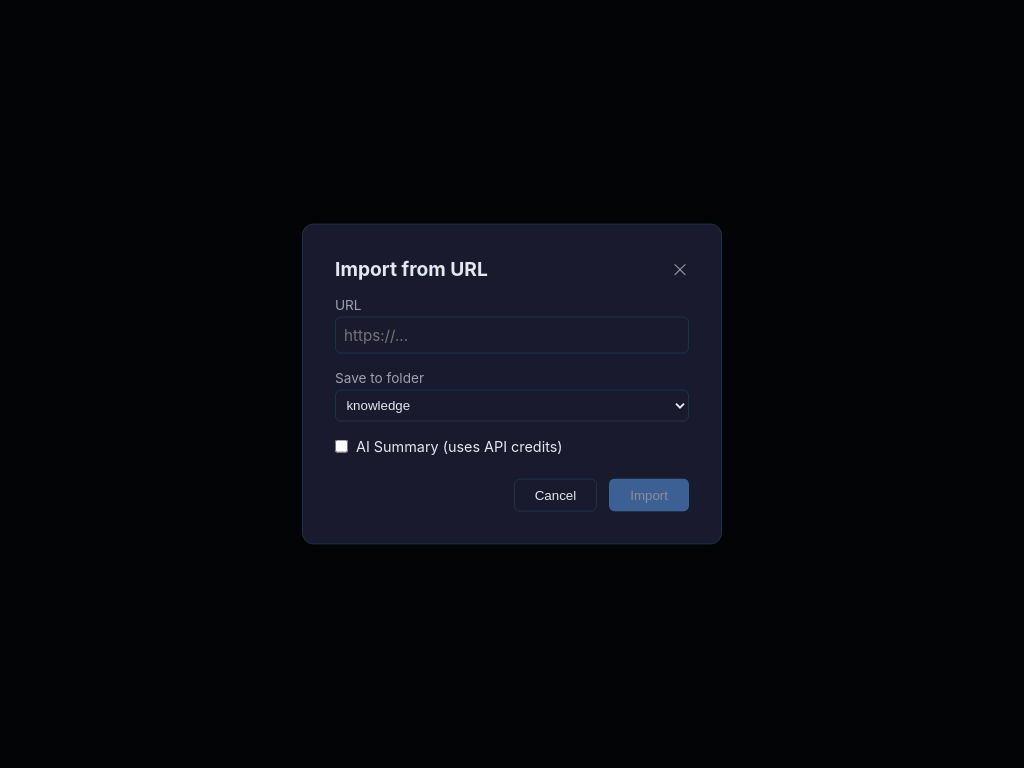
Test: components/LinkIngestDialog.vue › detects webpage URL type
Type "https://example.com/article" into the field with class "link-dialog__input" at (512, 335), box [335,317,689,354]
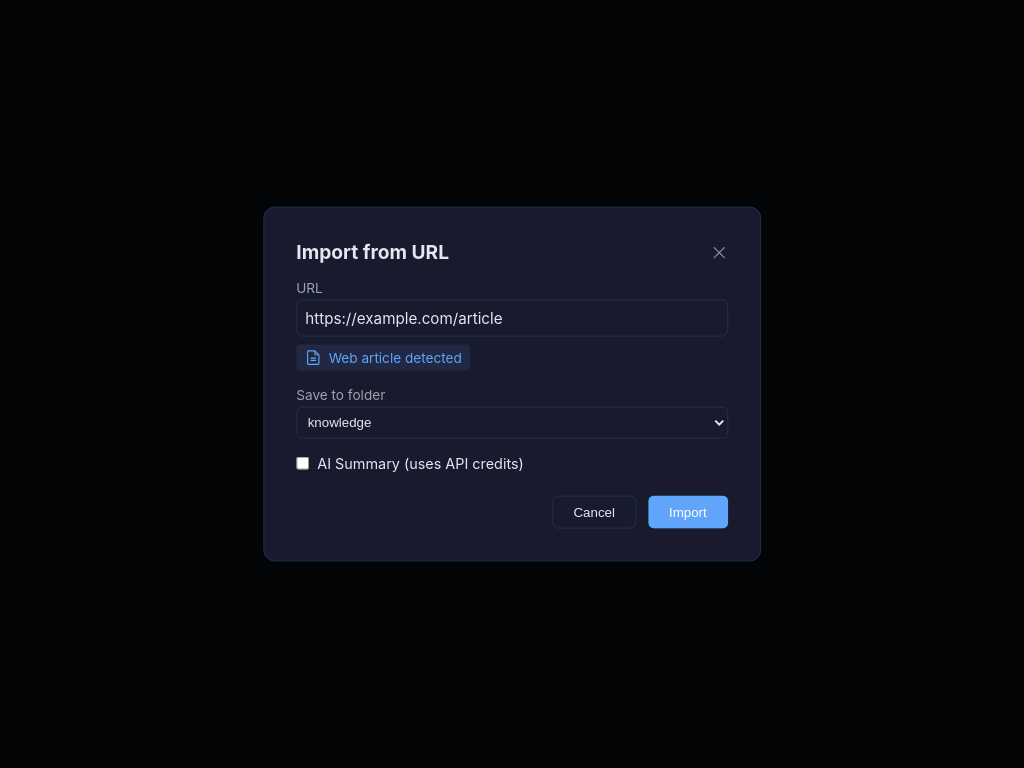
Now the element with class "link-dialog__badge--web" is shown, box [296,345,470,371]
